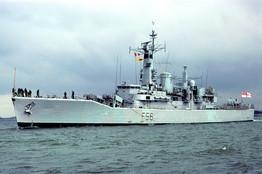warship: (10, 21, 258, 131)
